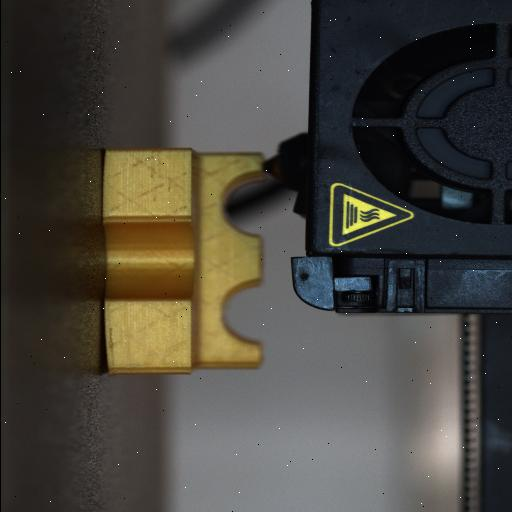warp: (97, 296, 117, 380)
